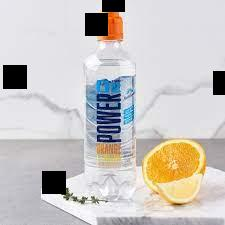powerO2_orange: (84, 6, 137, 201)
